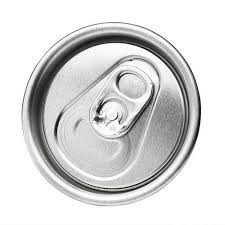can: (17, 20, 208, 210)
